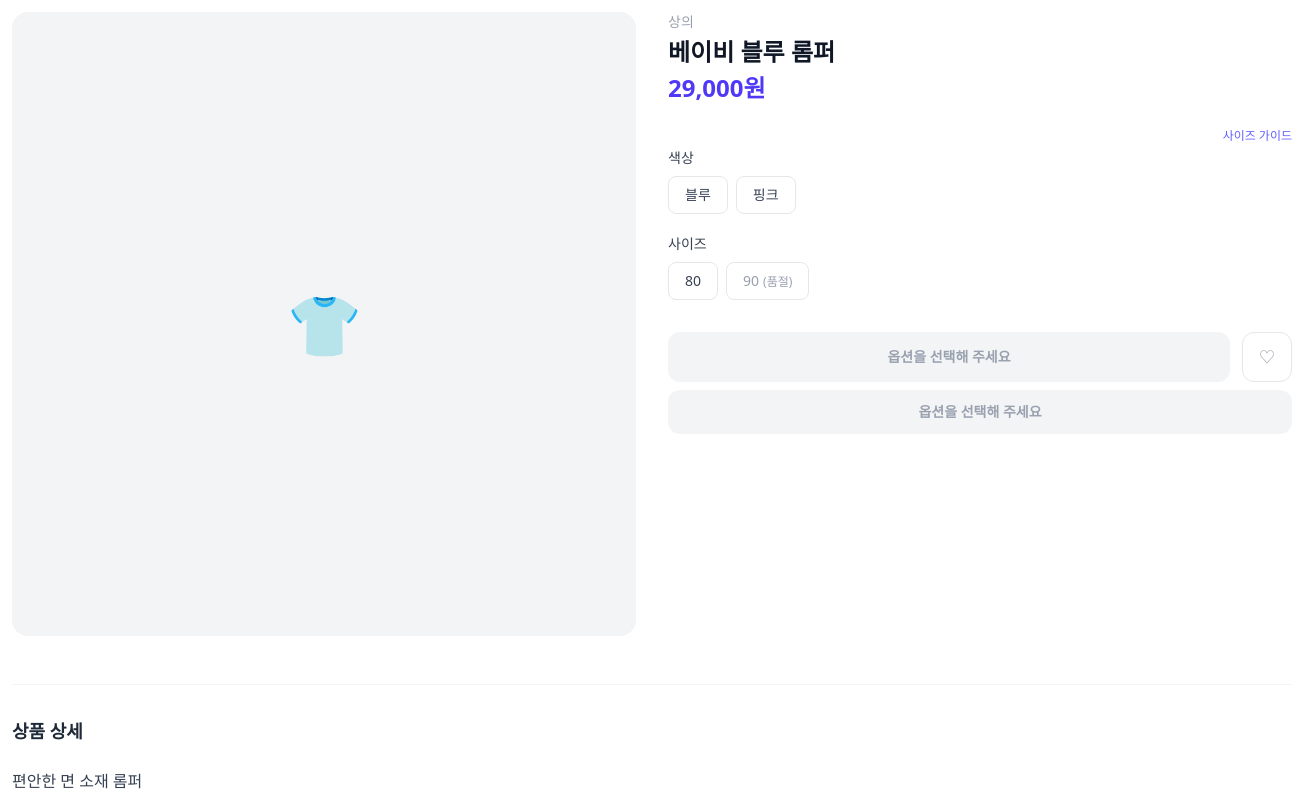
ProductDetailContent › 옵션 선택 → 장바구니 버튼 활성화 › 재고 있는 색상+사이즈 선택 시 장바구니 버튼이 활성화된다
What coordinates should you click on to do the following:
click the button "블루"
I would click on:
 (698, 195)
Its box is x1=668 y1=176 x2=728 y2=214.
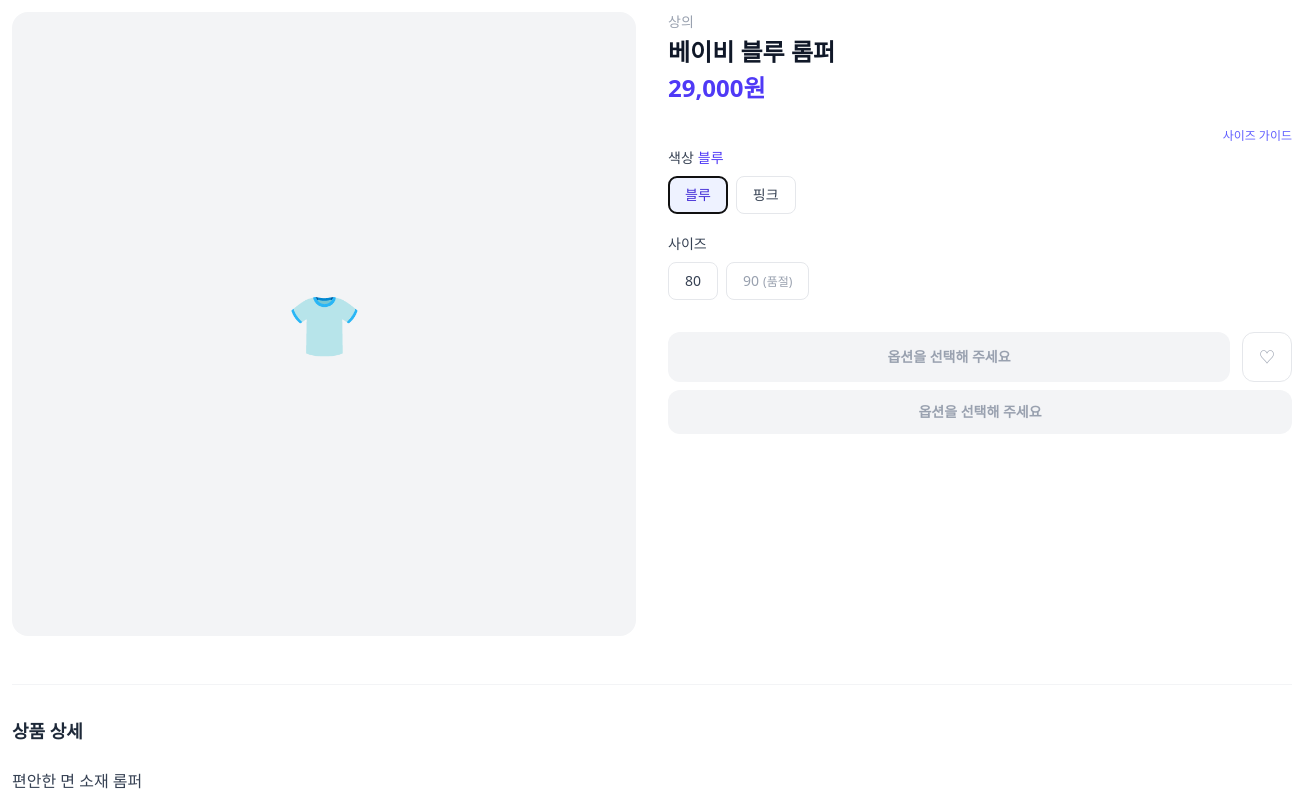
What coordinates should you click on to do the following:
click the button named "사이즈 80"
I would click on:
 (693, 281)
Its box is x1=668 y1=262 x2=718 y2=300.
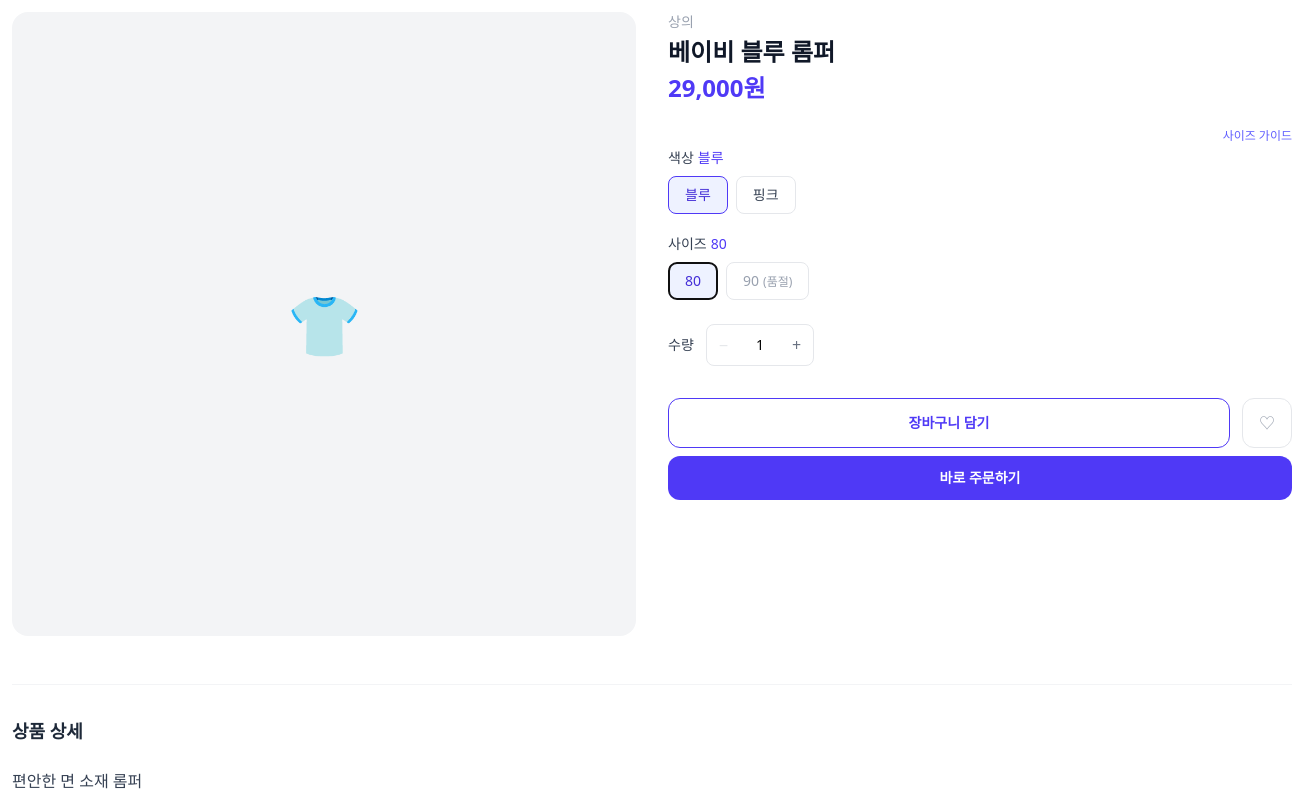
Expected: the button "장바구니 담기" is enabled, x1=668 y1=398 x2=1230 y2=448
